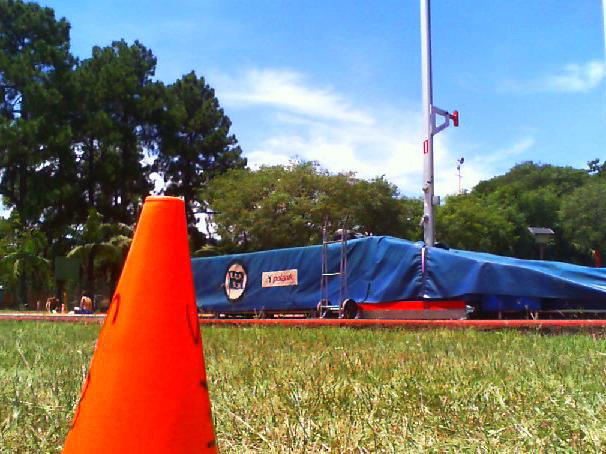0 cone: (58, 196, 220, 454)
